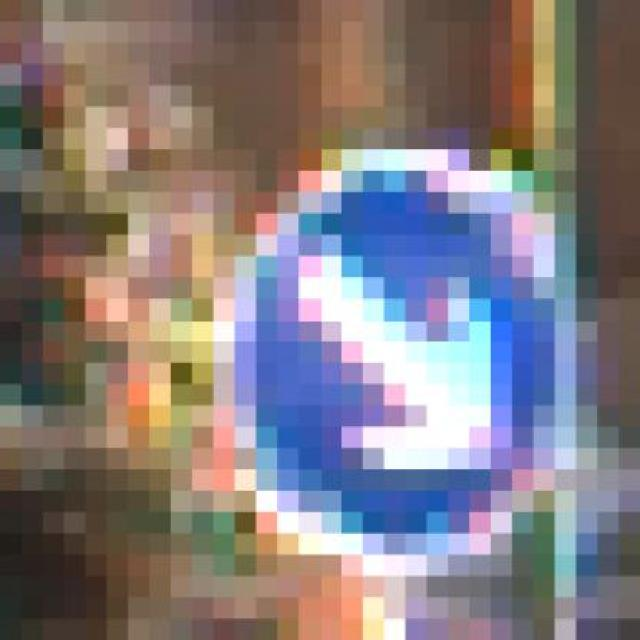Keep-Right: (171, 128, 618, 597)
